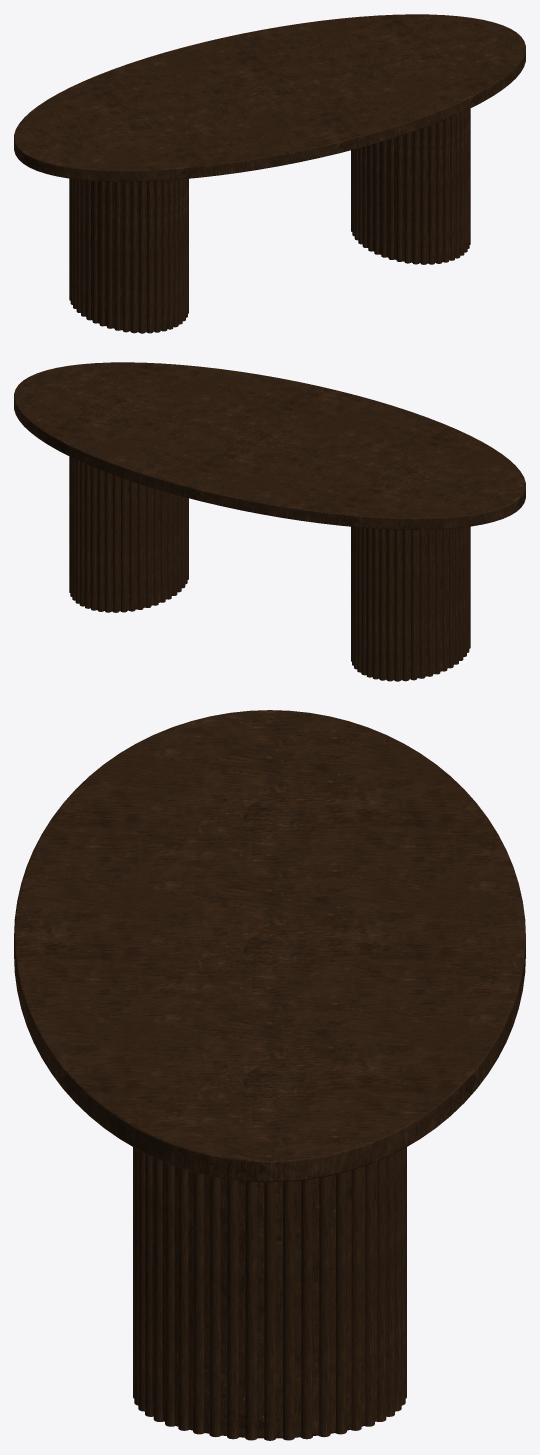
The model's file is dining-oval-table.glb.
3 renders of one model, top to bottom at view 1: azimuth 30°, elevation 25°; view 2: azimuth 150°, elevation 25°; view 3: azimuth 270°, elevation 25°, orthographic. The views are drawn at different scales.
Parts seen in each view (by area): view 1: walnut_surfaces; view 2: walnut_surfaces; view 3: walnut_surfaces.
Part boxes in pixels (<box>): walnut_surfaces: <box>14,14,525,333</box>; walnut_surfaces: <box>14,362,525,681</box>; walnut_surfaces: <box>14,710,525,1440</box>.
Size of the model in its own units: 2.21 by 0.7599 by 1.06.
1 material, 1 textured.
